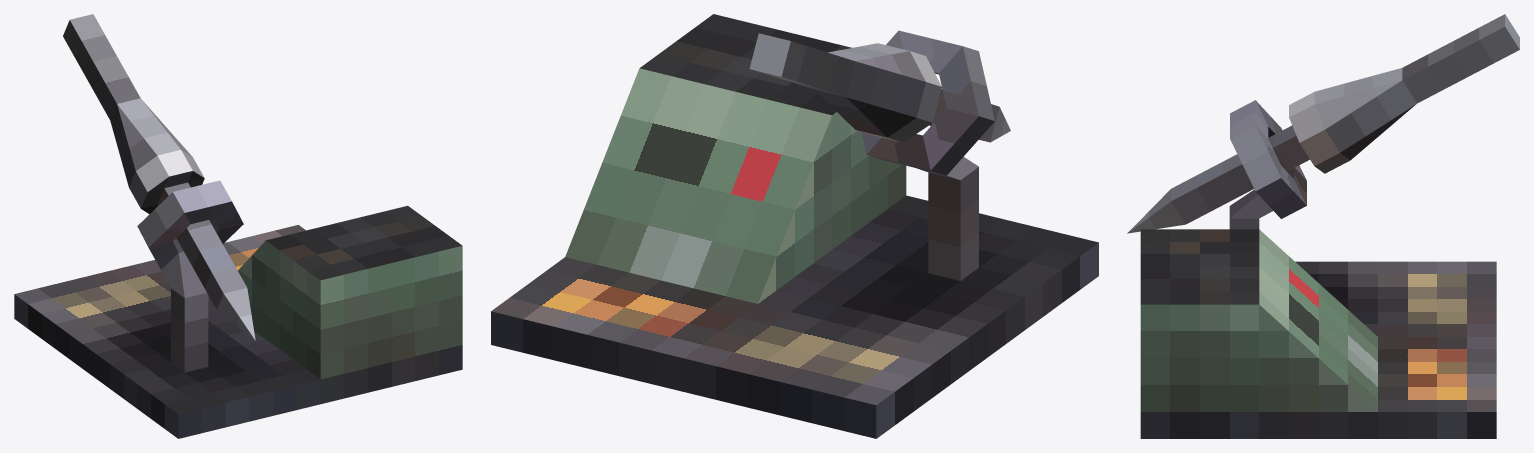
The model's file is soldering_iron.fbx.
The picture shows the model from 3 angles, left to right: view 1: azimuth 30°, elevation 25°; view 2: azimuth 150°, elevation 25°; view 3: azimuth 270°, elevation 25°; orthographic projection. The views are drawn at different scales.
Parts seen in each view (by area): view 1: soldering_iron; view 2: soldering_iron; view 3: soldering_iron.
Part boxes in pixels (x1,y1,x2,y2): soldering_iron: (14,14,462,438); soldering_iron: (491,14,1098,438); soldering_iron: (1127,14,1519,438).
Bounding box in the file's own units: 60 × 56.86 × 66.2.
